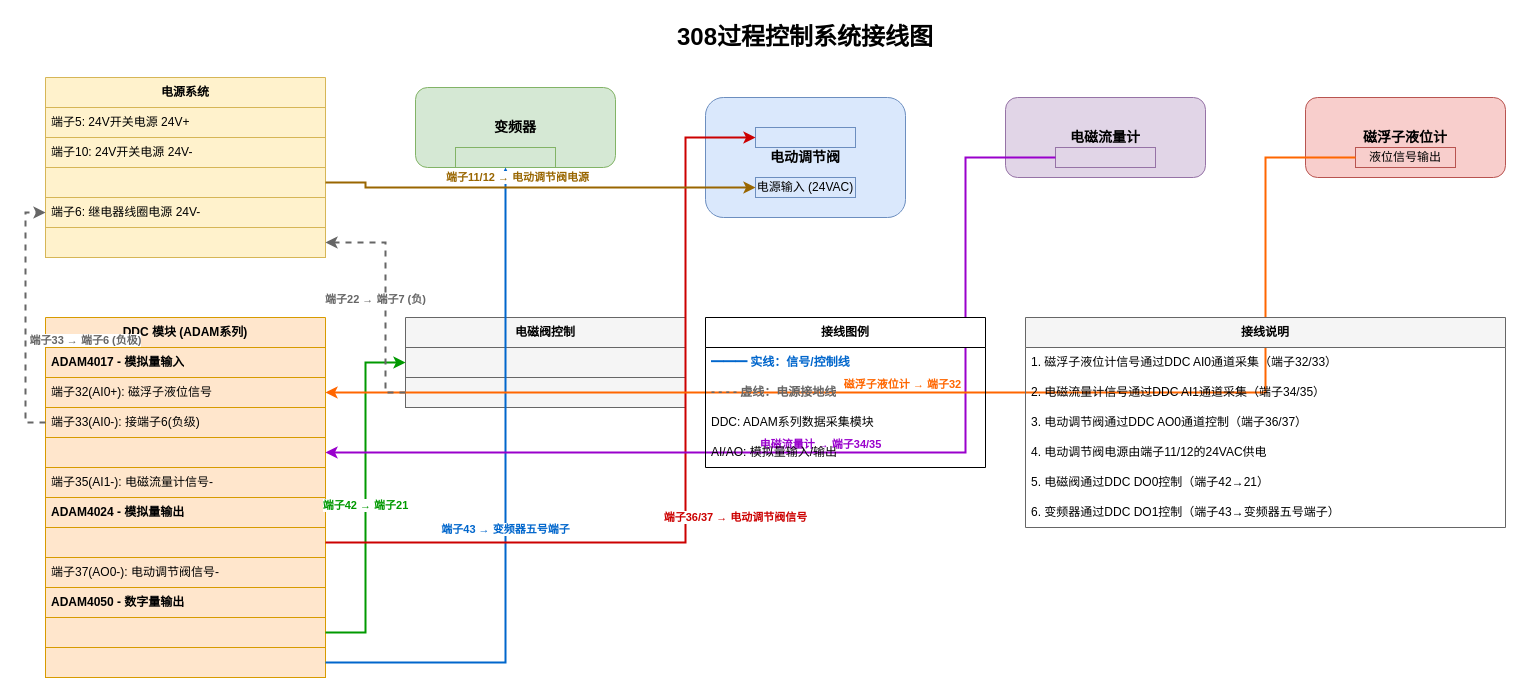
This 1523x695 diagram has some shape labels left out. Here are the shapes that lost their labels. From the top down, the centre of each, then its label:
At point 505,157: "五号端子".
At point 805,137: "信号输入".
At point 1105,157: "信号输出".
At point 185,182: "端子11/12: 变压器输出 24VAC".
At point 185,242: "端子7: PLC电源 24V-".
At point 545,362: "端子21: 电磁阀DO线圈 (KS2_13)".
At point 545,392: "端子22: 电磁阀DO线圈 → 端子7(负)".
At point 185,452: "端子34(AI1+): 电磁流量计信号+".
At point 185,542: "端子36(AO0+): 电动调节阀信号+".
At point 185,632: "端子42(DO0): 链接端子21".
At point 185,662: "端子43(DO1): 链接变频器五号端子".
